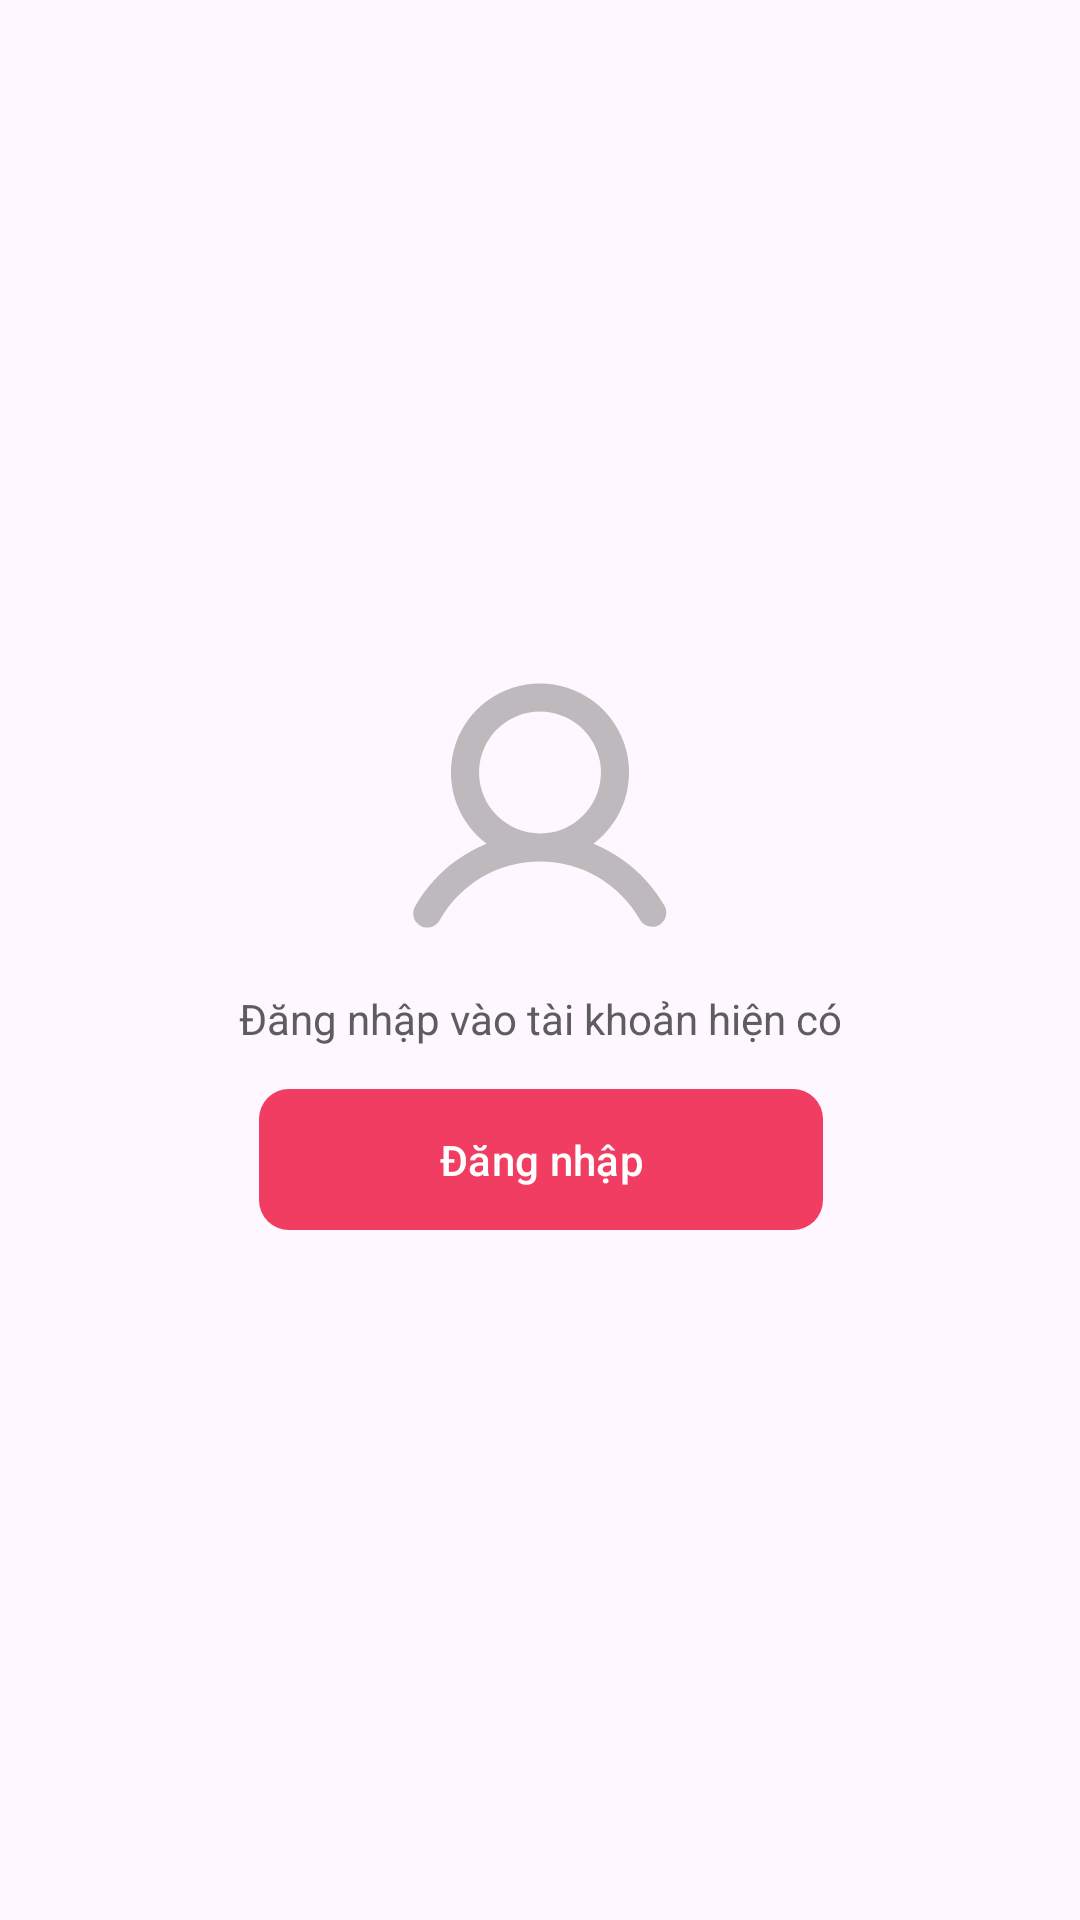

Icons on this 1080x1920 Android screen, each with its box as box=[x1, y1, x2, y2]:
user: box=[413, 683, 666, 928]
